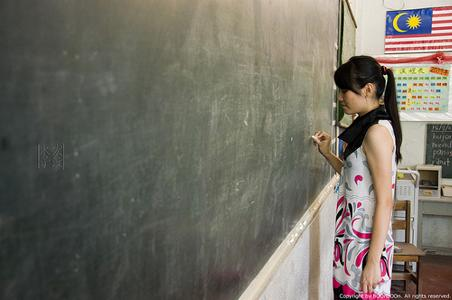person: (313, 56, 404, 299)
